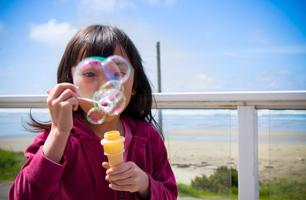person: (9, 21, 181, 200)
